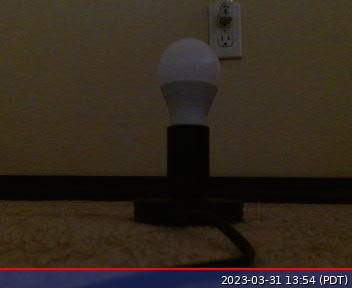Fan: (154, 36, 225, 101)
